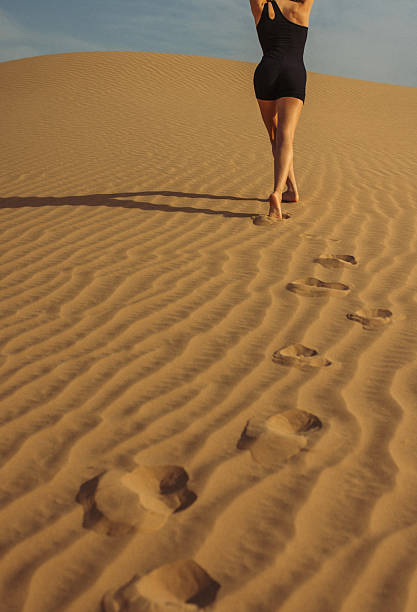human_footprint: (76, 465, 196, 535), (101, 559, 219, 611), (237, 409, 321, 467), (272, 343, 330, 368), (286, 277, 349, 296), (346, 308, 392, 329), (314, 254, 357, 268)
